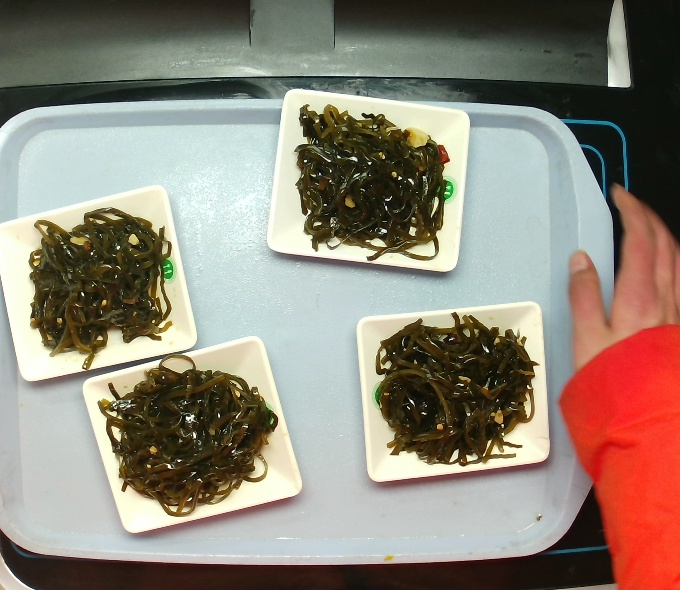wcq-LiangBanHaiDai: (361, 292, 548, 482), (14, 186, 181, 371), (99, 358, 276, 513), (284, 107, 459, 260)
